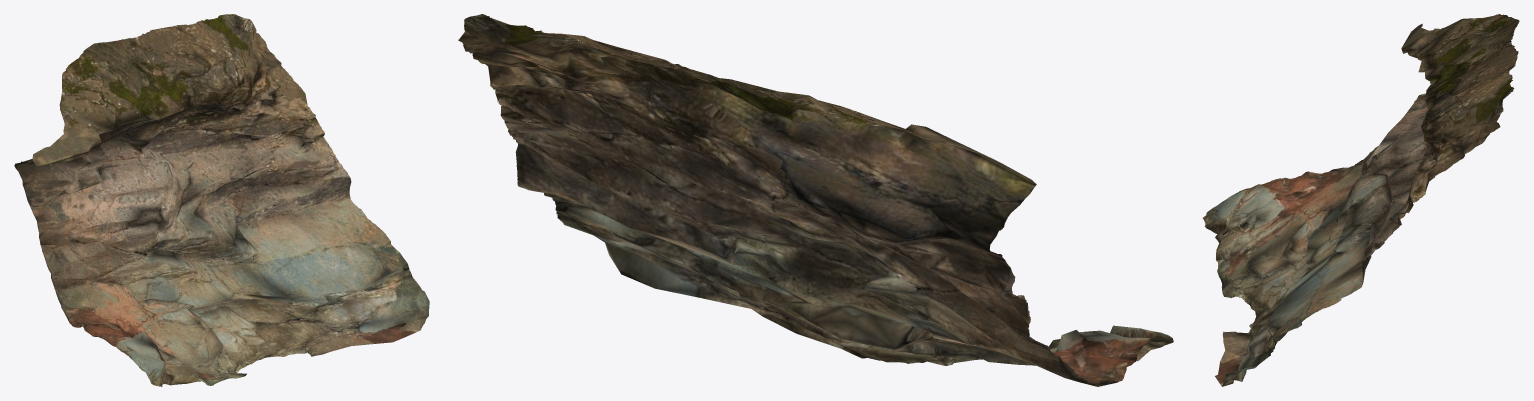
The model's file is rock_face_01.glb.
The picture shows the model from 3 angles, left to right: view 1: azimuth 30°, elevation 25°; view 2: azimuth 150°, elevation 25°; view 3: azimuth 270°, elevation 25°; orthographic projection. The views are drawn at different scales.
Size of the model in its own units: 4.95 by 3.56 by 3.83.
Materials: 1 (1 with a texture image).
